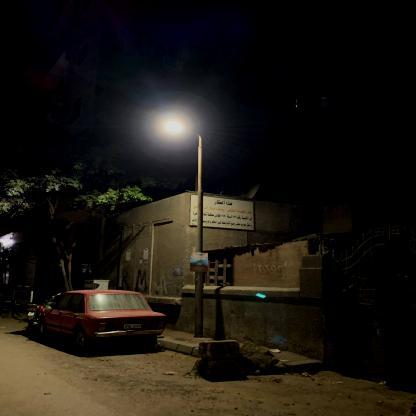light_pole: (163, 120, 205, 339)
